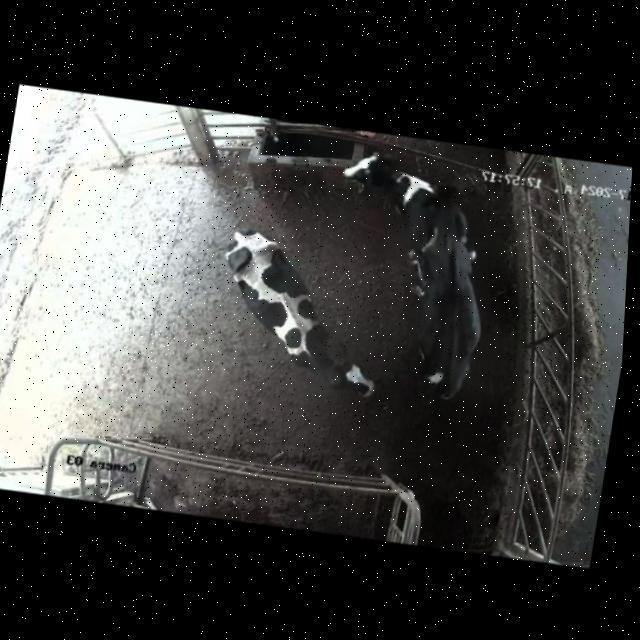ride: (383, 171, 512, 413)
stand: (186, 216, 405, 417), (331, 139, 489, 271)
